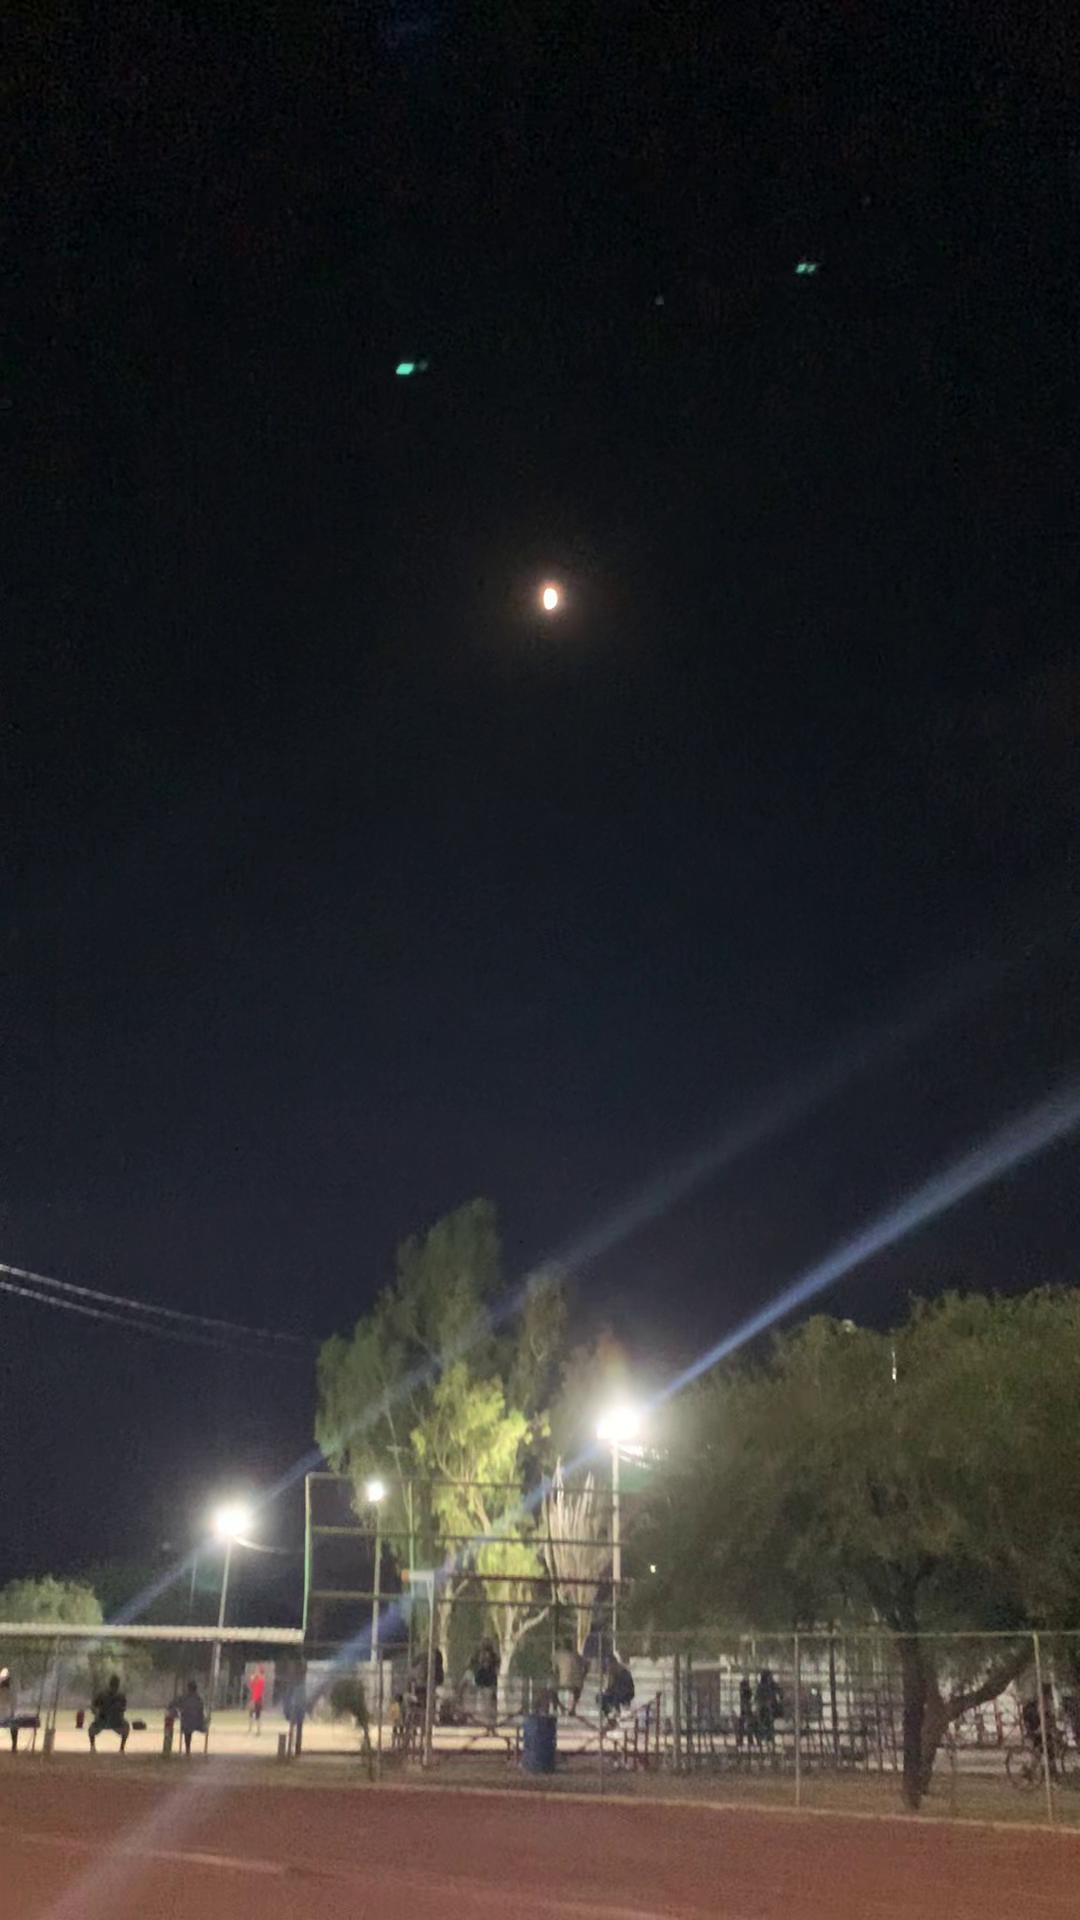moon: (516, 563, 585, 629)
